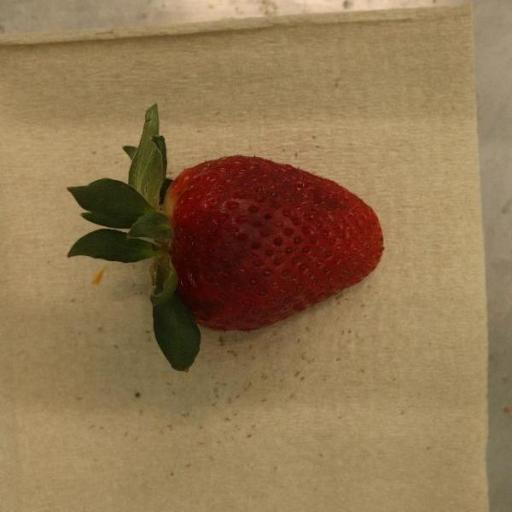Strawberry: (66, 105, 384, 373)
